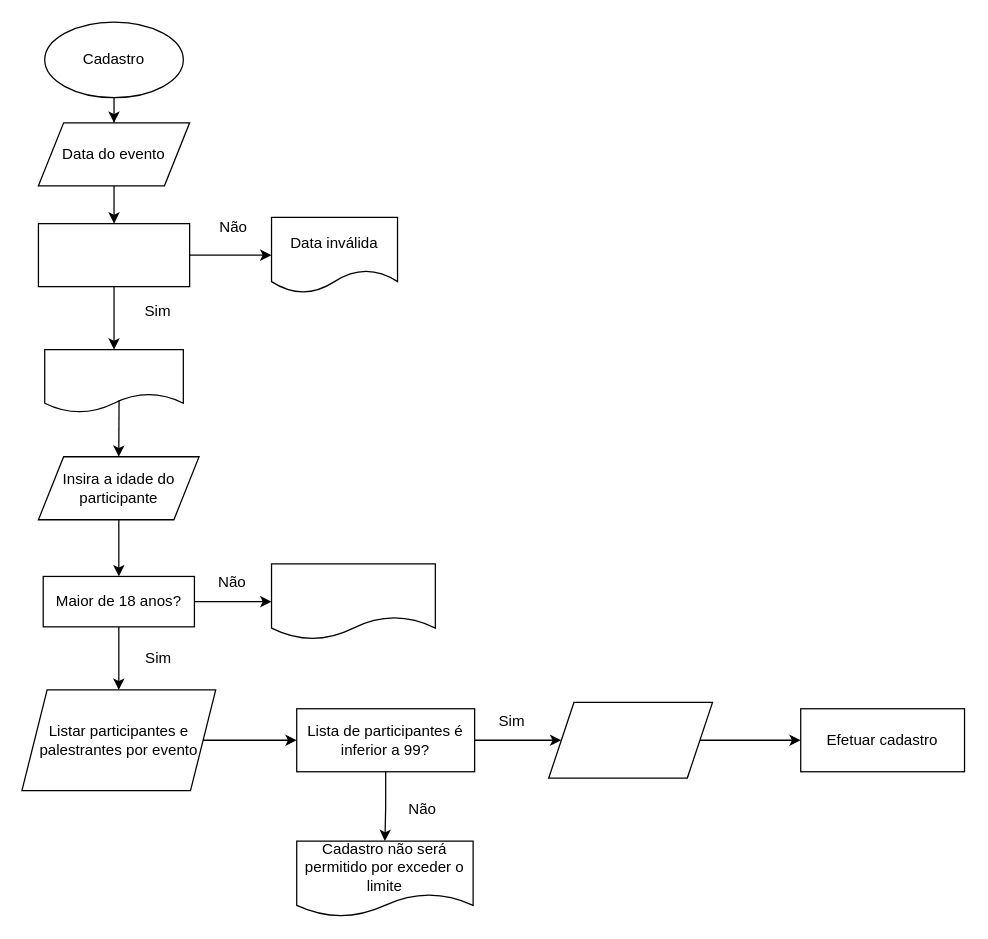
Some shapes in this 988 by 939 pixel diagram are drawn without their labels. The shapes that lost their labels are listed below. From the top down, each one's centre as x and y in pixels, then its label:
At (113,254): "Posterior à data atual?".
At (113,380): "Evento permitido".
At (352,601): "Cadastro não permitido por causa da idade".
At (630,739): "Aumentar em 1 o contador de participantes".
